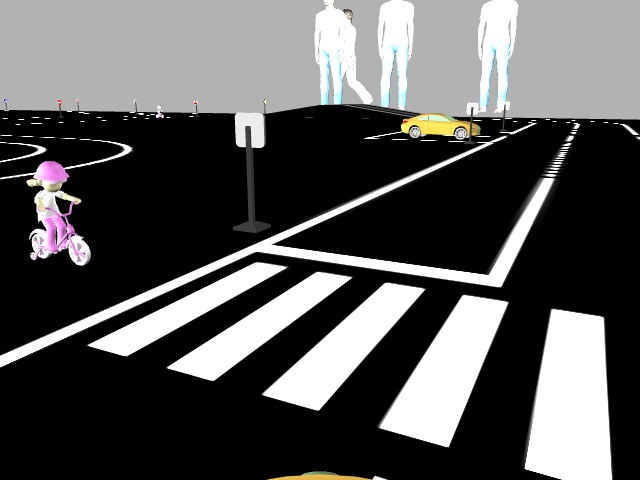Pedestrian: (20, 157, 95, 270)
